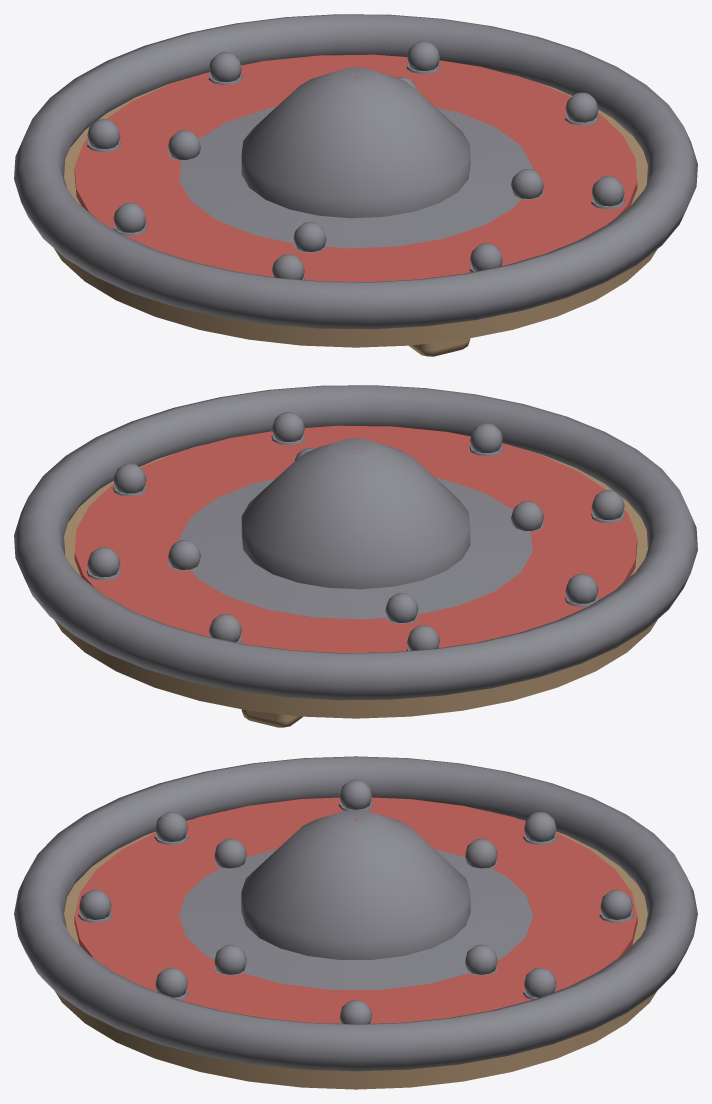
File: buckler-wood.glb
3 views of the same model, one above another, from view 1: azimuth 30°, elevation 25°; view 2: azimuth 150°, elevation 25°; view 3: azimuth 270°, elevation 25° (orthographic).
Parts seen in each view (by area): view 1: buckler-wood; view 2: buckler-wood; view 3: buckler-wood.
Part boxes in pixels (left/top/right/bottom): buckler-wood: left=14, top=14, right=697, bottom=356; buckler-wood: left=14, top=385, right=697, bottom=727; buckler-wood: left=14, top=756, right=697, bottom=1089.
Size of the model in its own units: 0.328 by 0.112 by 0.328.
